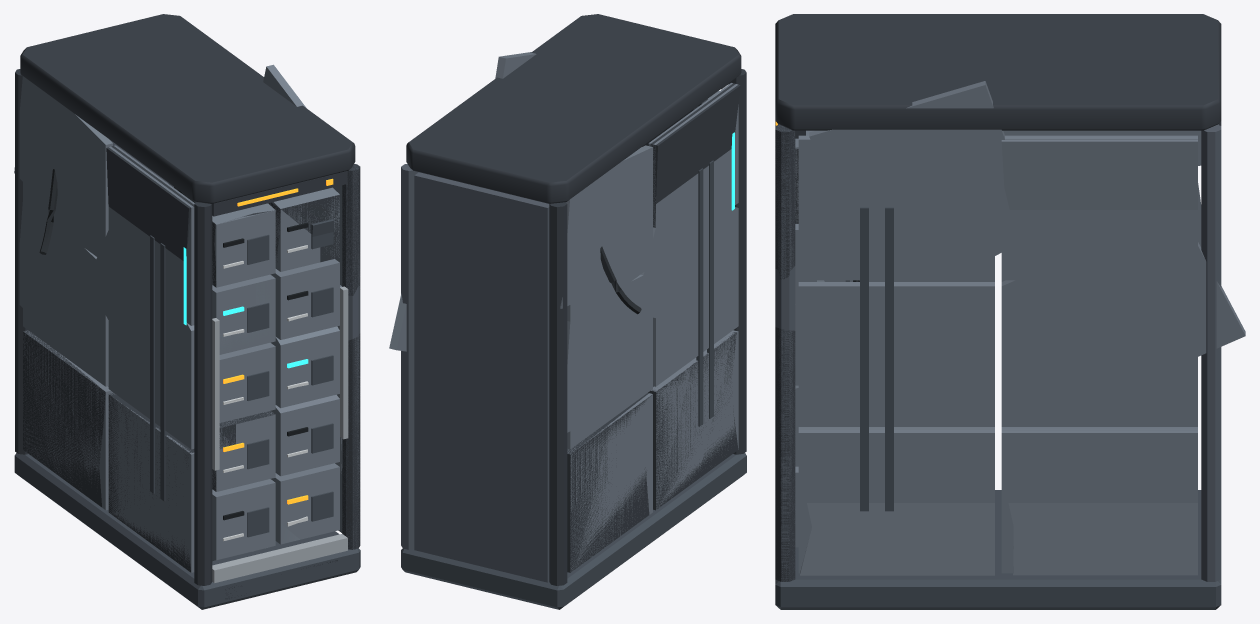
Rendered from hlx_cmp_server_rack_b.glb.
The picture shows the model from 3 angles, left to right: view 1: azimuth 30°, elevation 25°; view 2: azimuth 150°, elevation 25°; view 3: azimuth 270°, elevation 25°; orthographic projection. The views are drawn at different scales.
Visible parts, largest first — view 1: mesh_heavy, mesh_intact, mesh_light; view 2: mesh_heavy, mesh_intact, mesh_light; view 3: mesh_heavy, mesh_intact, mesh_light.
Boxes of the visible parts, <box> form: mesh_heavy: <box>14,14,360,609</box>; mesh_intact: <box>23,85,360,572</box>; mesh_light: <box>14,76,358,608</box>; mesh_heavy: <box>389,14,746,609</box>; mesh_intact: <box>567,83,738,571</box>; mesh_light: <box>403,91,746,608</box>; mesh_heavy: <box>775,14,1245,609</box>; mesh_intact: <box>775,125,1197,581</box>; mesh_light: <box>780,130,1220,609</box>.
Bounding box in the file's own units: 0.4738 × 1.04 × 0.8436.
